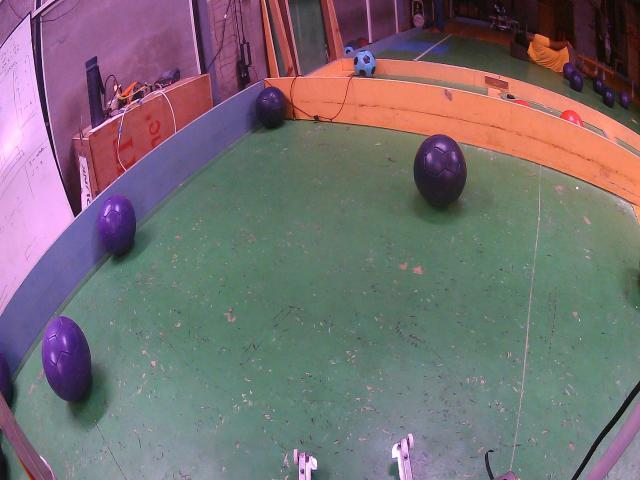jambhalya: (41, 317, 91, 402), (98, 195, 136, 255)
kaalyya: (414, 135, 466, 207), (256, 87, 286, 128)
